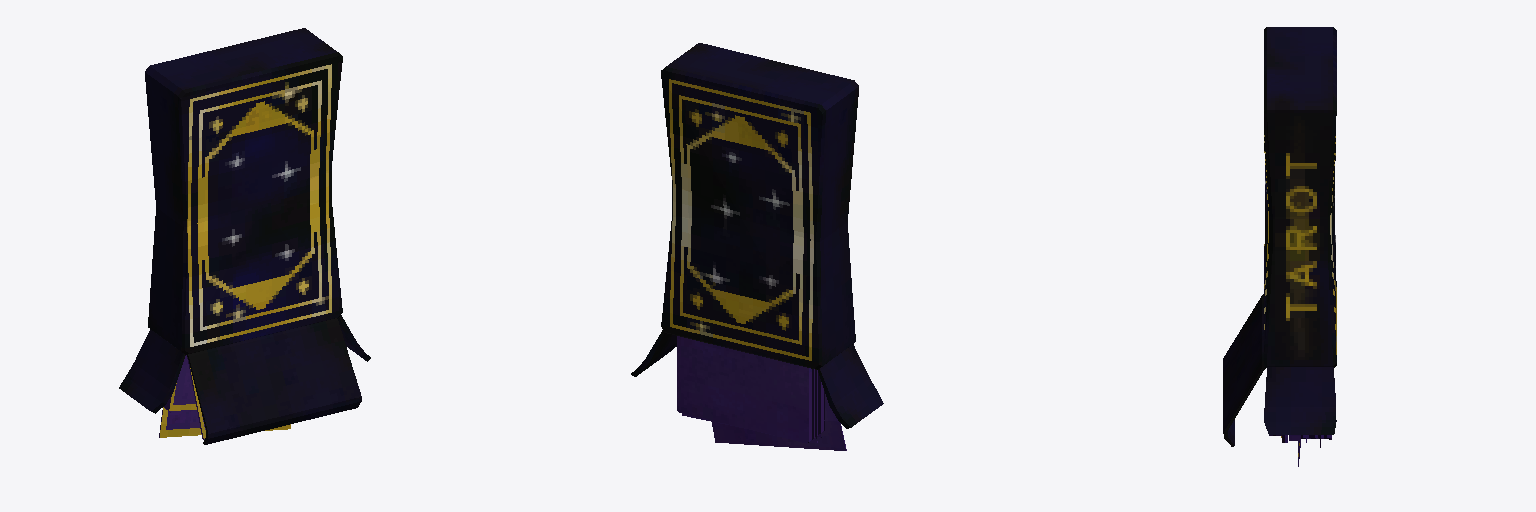
3 renders of one model, left to right at view 1: azimuth 30°, elevation 25°; view 2: azimuth 150°, elevation 25°; view 3: azimuth 270°, elevation 25°, orthographic.
Visible parts, largest first — view 1: TarotDeck; view 2: TarotDeck; view 3: TarotDeck.
Part boxes in pixels (x1,y1,x2,y2): TarotDeck: (119, 28, 370, 444); TarotDeck: (631, 43, 883, 450); TarotDeck: (1223, 27, 1336, 466).
Bounding box in the file's own units: 0.4207 × 0.6941 × 0.1871.
1 materials, 1 textured.